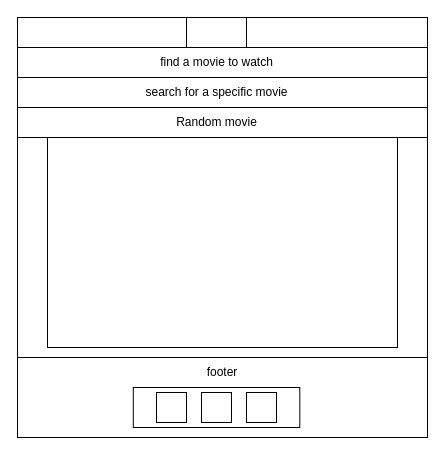
Some shapes in this 445 by 455 pixel diagram are drawn without their labels. Here are the shapes that lost their labels. From the top down, the centre of each, then its label:
At point (216, 32): "logo".
At point (222, 242): "welcome Page".
